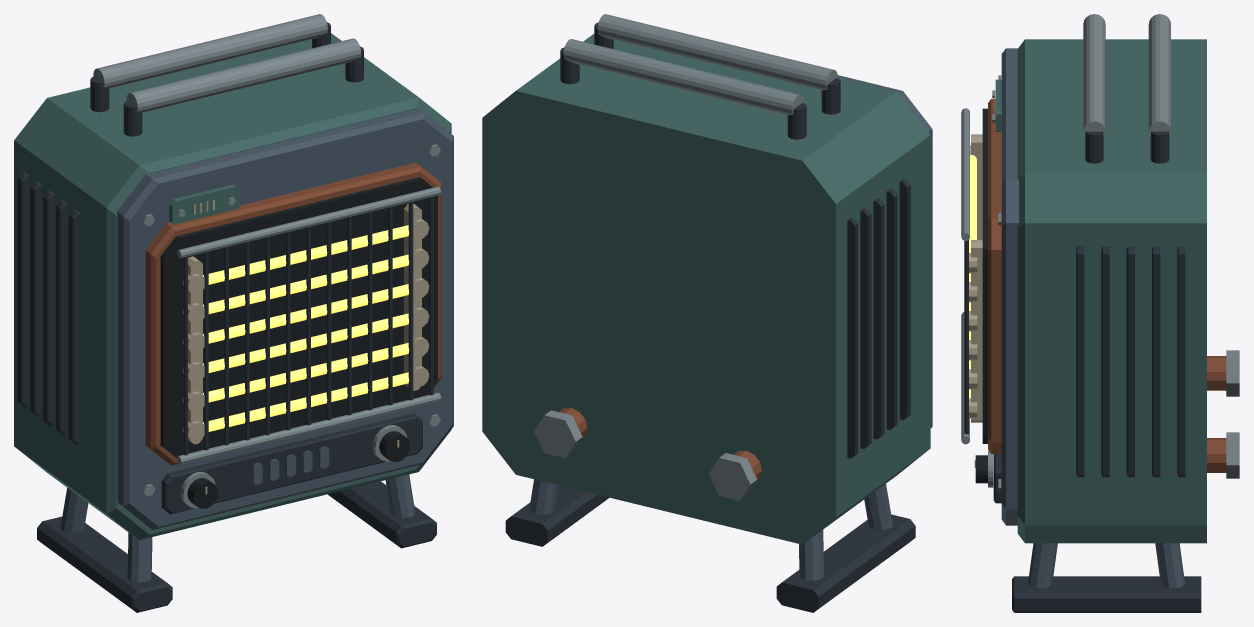
File: A-01_heater.glb
3 renders of one model, left to right at view 1: azimuth 30°, elevation 25°; view 2: azimuth 150°, elevation 25°; view 3: azimuth 270°, elevation 25°, orthographic. The views are drawn at different scales.
Parts seen in each view (by area): view 1: A-01_heater; view 2: A-01_heater; view 3: A-01_heater.
Part boxes in pixels (x1,y1,x2,y2): A-01_heater: (14, 14, 453, 612); A-01_heater: (482, 14, 932, 612); A-01_heater: (961, 14, 1239, 612).
Size of the model in its own units: 0.845 by 1.08 by 0.573.
